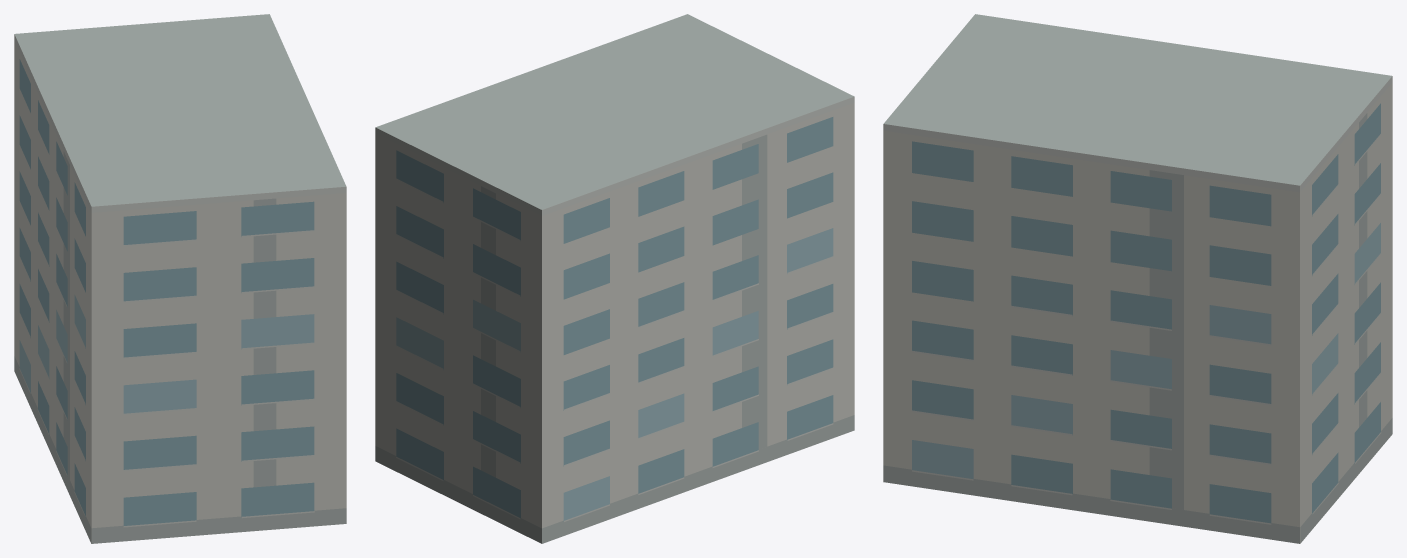
Rendered from survey-upis-33006621.glb.
3 renders of one model, left to right at view 1: azimuth 30°, elevation 25°; view 2: azimuth 150°, elevation 25°; view 3: azimuth 270°, elevation 25°, orthographic. The views are drawn at different scales.
Parts seen in each view (by area): view 1: survey-upis-33006621.tmp; view 2: survey-upis-33006621.tmp; view 3: survey-upis-33006621.tmp.
Boxes of the visible parts, x1,y1,x2,y2 form: survey-upis-33006621.tmp: [14, 14, 346, 543]; survey-upis-33006621.tmp: [375, 14, 854, 543]; survey-upis-33006621.tmp: [883, 14, 1392, 543].
Bounding box in the file's own units: 13.48 × 13.1 × 16.89.
